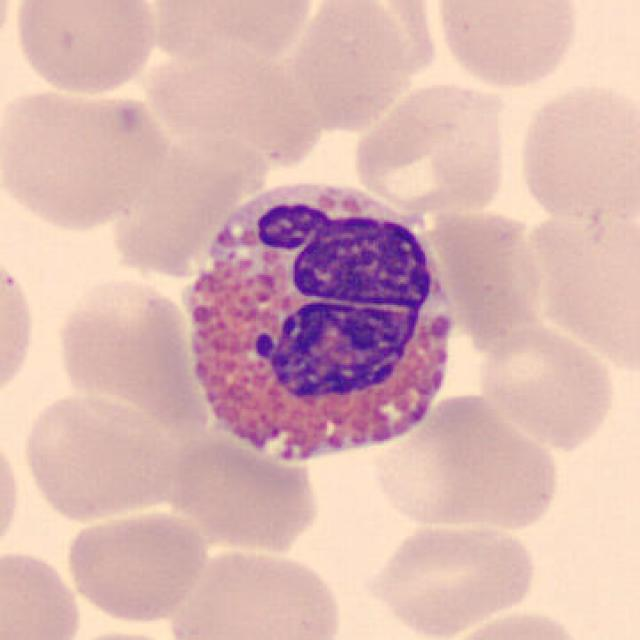Eosinophil: (171, 166, 471, 485)
RBC: (366, 390, 564, 534), (0, 81, 165, 234), (348, 77, 512, 217), (51, 272, 198, 423), (18, 388, 178, 525), (361, 517, 540, 638), (166, 425, 326, 557), (521, 197, 640, 372), (283, 0, 439, 132), (474, 321, 618, 451), (512, 79, 638, 224), (164, 543, 348, 640), (62, 504, 210, 624), (423, 203, 546, 344), (9, 0, 162, 99), (430, 0, 585, 92), (144, 0, 322, 63), (0, 545, 85, 640), (0, 247, 39, 409), (439, 606, 595, 640), (0, 423, 25, 563), (58, 627, 190, 640)
